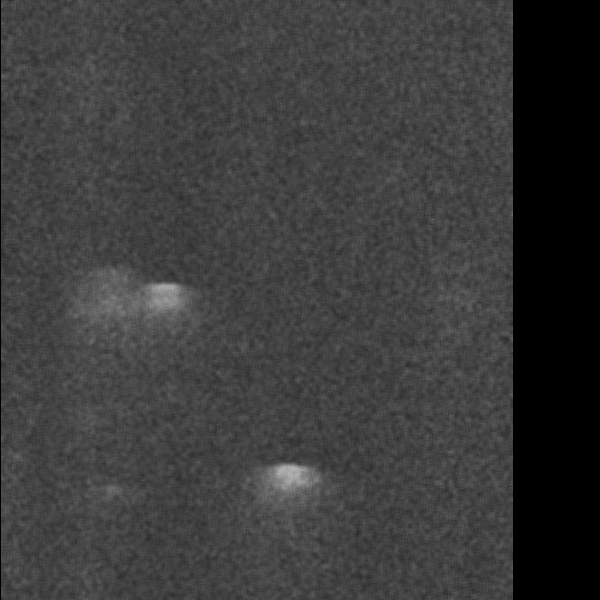spark: (349, 267, 397, 312), (469, 371, 488, 393)
